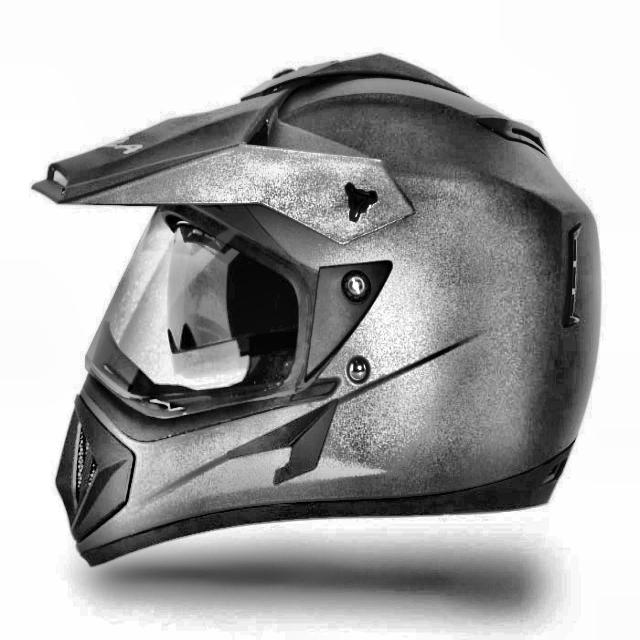Helmet: (22, 44, 605, 581)
